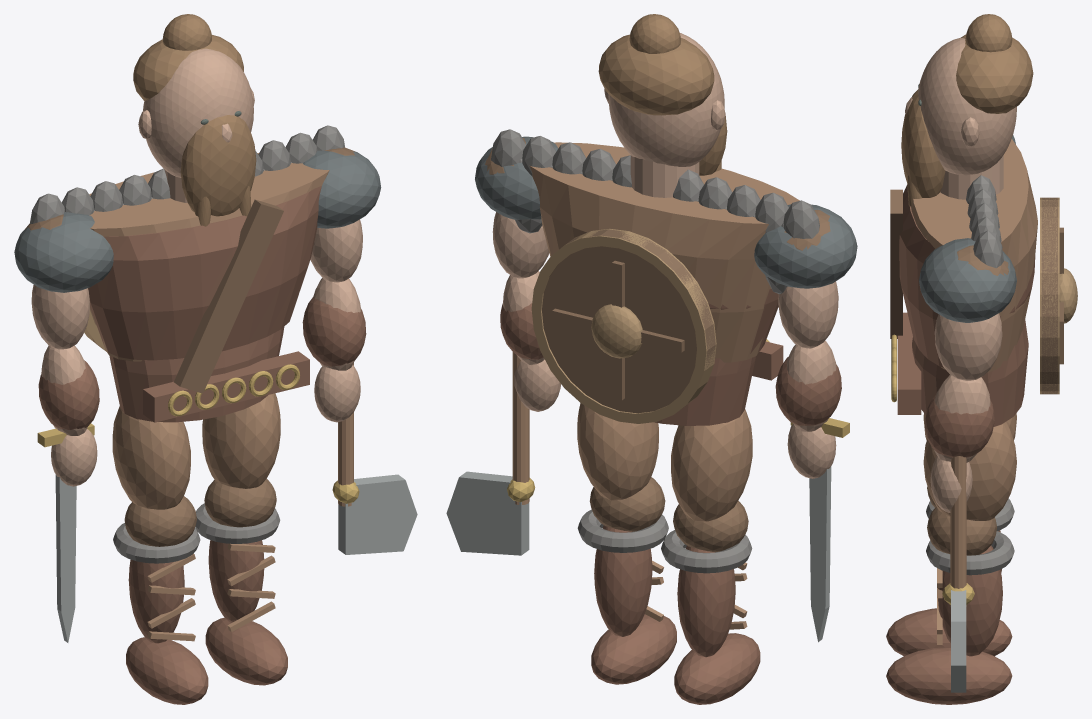
File: Yggdrasil_Viking_Jarl.glb
3 renders of one model, left to right at view 1: azimuth 30°, elevation 25°; view 2: azimuth 150°, elevation 25°; view 3: azimuth 270°, elevation 25°, orthographic. The views are drawn at different scales.
Parts seen in each view (by area): view 1: ChestArmor_Default_Brown_Leather, Head_Skin_Weathered, Beard_Default_Nordic_Hair, ChestArmor_Default_Bronze_Shadow, Thigh_L_Worn_Leather, ShoulderArmor_Default_L_Dark_Iron, ChestArmor_Default_Fur_Charcoal_Fur, leather_light_Worn_Leather, Thigh_R_Worn_Leather, DefaultWeapon_Axe_Forged_Iron, leather_Brown_Leather, Boot_L_Brown_Leather (+23 smaller); view 2: leather_light_Worn_Leather, Shield_Default_Shield_Wood, Shield_Default_Bronze_Armor, ChestArmor_Default_Fur_Charcoal_Fur, Hair_Default_Nordic_Hair, Thigh_L_Worn_Leather, Thigh_R_Worn_Leather, Head_Skin_Weathered, DefaultWeapon_Axe_Forged_Iron, ShoulderArmor_Default_L_Dark_Iron, Shin_R_Brown_Leather, Shin_L_Brown_Leather (+23 smaller); view 3: leather_light_Worn_Leather, Head_Skin_Weathered, Hair_Default_Nordic_Hair, ShoulderArmor_Default_R_Dark_Iron, Boot_R_Brown_Leather, Thigh_R_Worn_Leather, ChestArmor_Default_Brown_Leather, leather_Brown_Leather, UpperArm_R_Skin_Weathered, Shield_Default_Shield_Wood, Shin_R_Brown_Leather, Beard_Default_Nordic_Hair (+20 smaller).
Boxes of the visible parts, x1=… form: ChestArmor_Default_Brown_Leather: x1=88, y1=186, x2=321, y2=360; Head_Skin_Weathered: x1=143, y1=48, x2=253, y2=177; Beard_Default_Nordic_Hair: x1=180, y1=115, x2=256, y2=226; ChestArmor_Default_Bronze_Shadow: x1=174, y1=199, x2=283, y2=393; Thigh_L_Worn_Leather: x1=112, y1=406, x2=190, y2=509; ShoulderArmor_Default_L_Dark_Iron: x1=14, y1=212, x2=113, y2=292; ChestArmor_Default_Fur_Charcoal_Fur: x1=29, y1=125, x2=344, y2=223; leather_light_Worn_Leather: x1=89, y1=153, x2=329, y2=361; Thigh_R_Worn_Leather: x1=202, y1=393, x2=280, y2=488; DefaultWeapon_Axe_Forged_Iron: x1=338, y1=474, x2=417, y2=554; leather_Brown_Leather: x1=109, y1=327, x2=284, y2=422; Boot_L_Brown_Leather: x1=126, y1=637, x2=208, y2=704; leather_light_Worn_Leather: x1=529, y1=142, x2=799, y2=362; Shield_Default_Shield_Wood: x1=542, y1=229, x2=715, y2=413; Shield_Default_Bronze_Armor: x1=531, y1=228, x2=716, y2=423; ChestArmor_Default_Fur_Charcoal_Fur: x1=491, y1=129, x2=819, y2=293; Hair_Default_Nordic_Hair: x1=598, y1=14, x2=714, y2=115; Thigh_L_Worn_Leather: x1=671, y1=409, x2=752, y2=521; Thigh_R_Worn_Leather: x1=577, y1=403, x2=658, y2=500; Head_Skin_Weathered: x1=608, y1=33, x2=724, y2=166; DefaultWeapon_Axe_Forged_Iron: x1=446, y1=471, x2=529, y2=555; ShoulderArmor_Default_L_Dark_Iron: x1=754, y1=204, x2=857, y2=288; Shin_R_Brown_Leather: x1=594, y1=525, x2=652, y2=636; Shin_L_Brown_Leather: x1=677, y1=545, x2=735, y2=657; leather_light_Worn_Leather: x1=911, y1=139, x2=1037, y2=372; Head_Skin_Weathered: x1=918, y1=37, x2=1016, y2=175; Hair_Default_Nordic_Hair: x1=956, y1=14, x2=1033, y2=113; ShoulderArmor_Default_R_Dark_Iron: x1=919, y1=238, x2=1016, y2=322; Boot_R_Brown_Leather: x1=886, y1=647, x2=1012, y2=704; Thigh_R_Worn_Leather: x1=923, y1=422, x2=1016, y2=520; ChestArmor_Default_Brown_Leather: x1=899, y1=184, x2=1035, y2=367; leather_Brown_Leather: x1=912, y1=319, x2=1028, y2=426; UpperArm_R_Skin_Weathered: x1=934, y1=313, x2=1002, y2=380; Shield_Default_Shield_Wood: x1=1041, y1=197, x2=1057, y2=394; Shin_R_Brown_Leather: x1=938, y1=545, x2=1002, y2=656; Beard_Default_Nordic_Hair: x1=901, y1=89, x2=945, y2=206.
Bounding box in the file's own units: 1.95 × 3.14 × 0.82.
